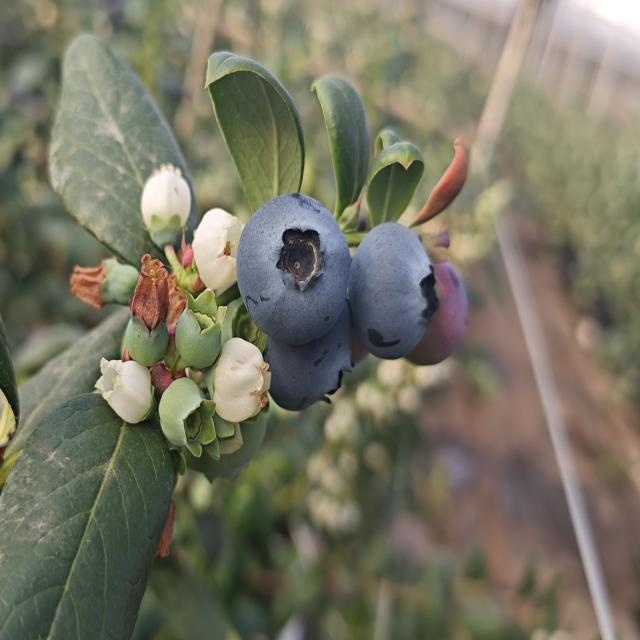ripe: (232, 173, 353, 350), (350, 214, 442, 365), (256, 322, 360, 419)
